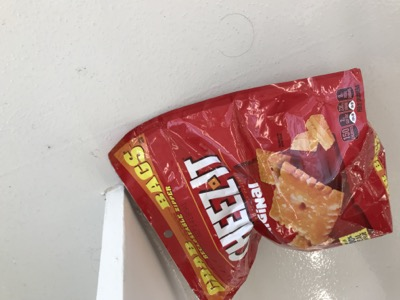cheez-it: (107, 65, 394, 300)
